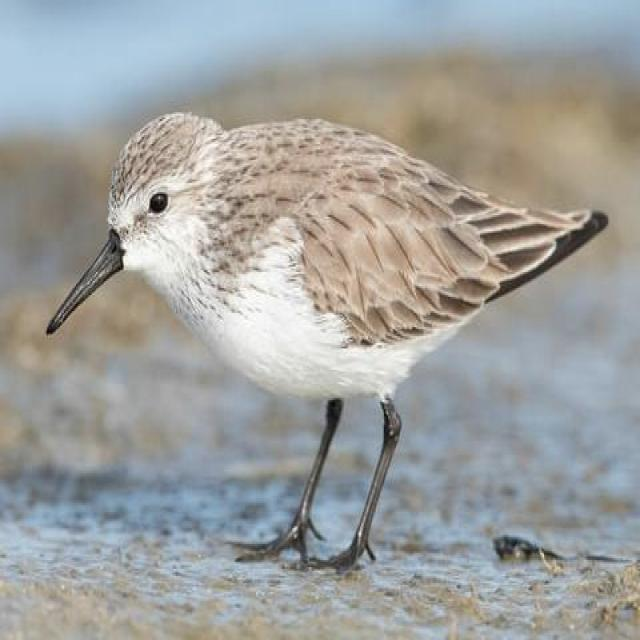sandpiper: (48, 112, 608, 562)
